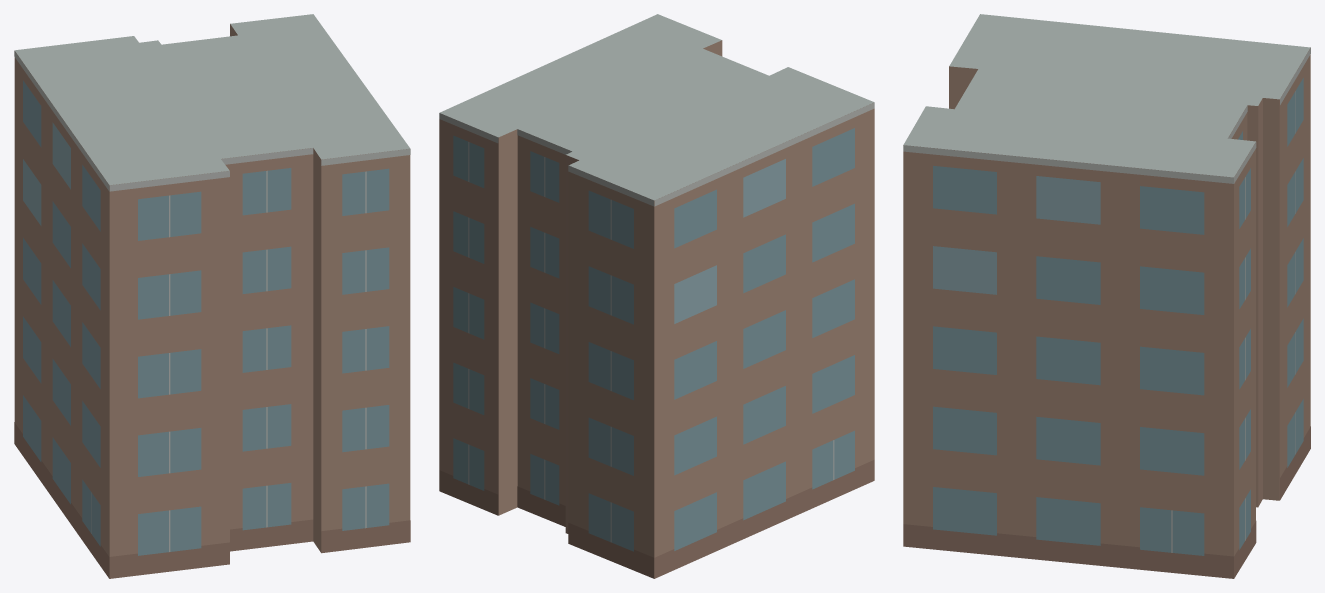
Rendered from survey-upis-32530820.glb.
3 views of the same model, side by side, from view 1: azimuth 30°, elevation 25°; view 2: azimuth 150°, elevation 25°; view 3: azimuth 270°, elevation 25° (orthographic). The views are drawn at different scales.
Parts seen in each view (by area): view 1: survey-upis-32530820.tmp; view 2: survey-upis-32530820.tmp; view 3: survey-upis-32530820.tmp.
Boxes of the visible parts, x1,y1,x2,y2 form: survey-upis-32530820.tmp: (14, 14, 410, 578); survey-upis-32530820.tmp: (439, 14, 874, 578); survey-upis-32530820.tmp: (903, 14, 1310, 578).
Bounding box in the file's own units: 13.15 × 15.05 × 13.85.
